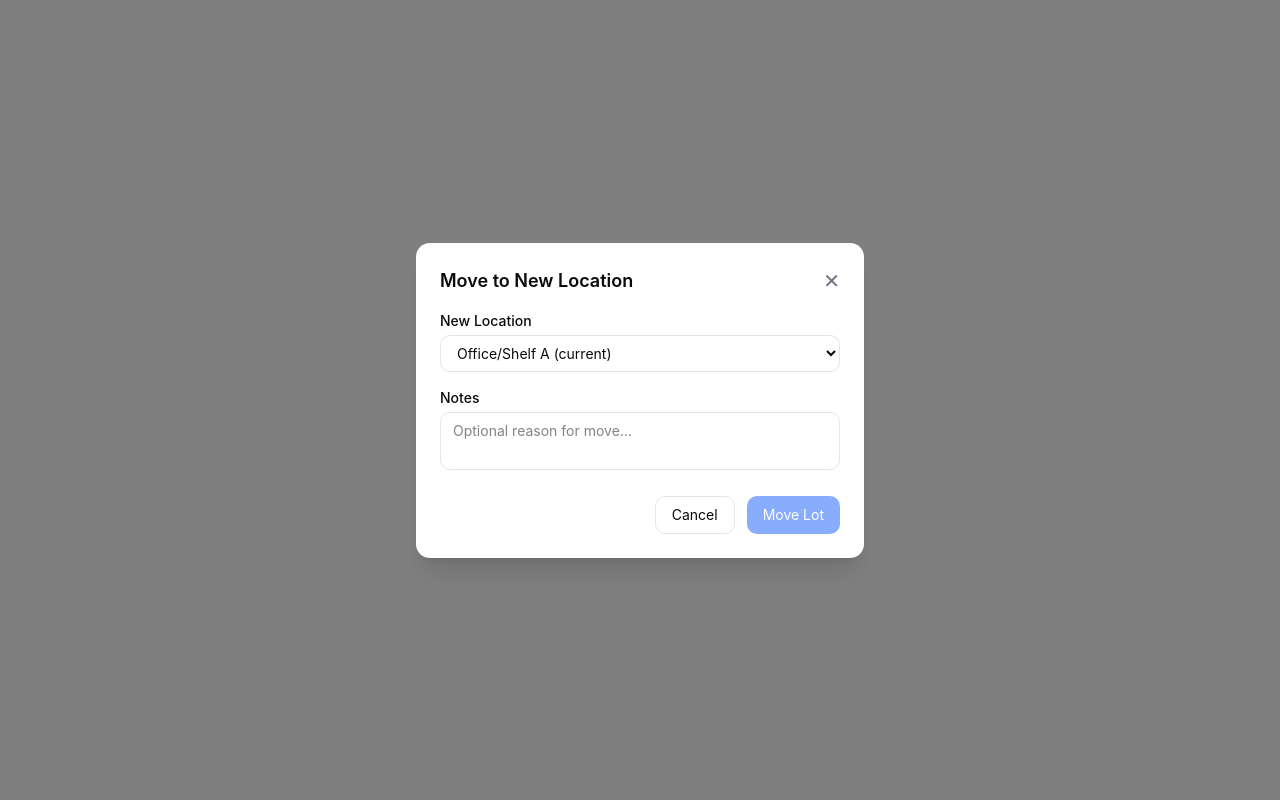
it: MoveModal › submit failure › shows network error when fetch throws
Select "Office/Shelf A/Drawer 1" in the dropdown. click: (640, 353)
box: top-left (440, 334), bottom-right (840, 372)
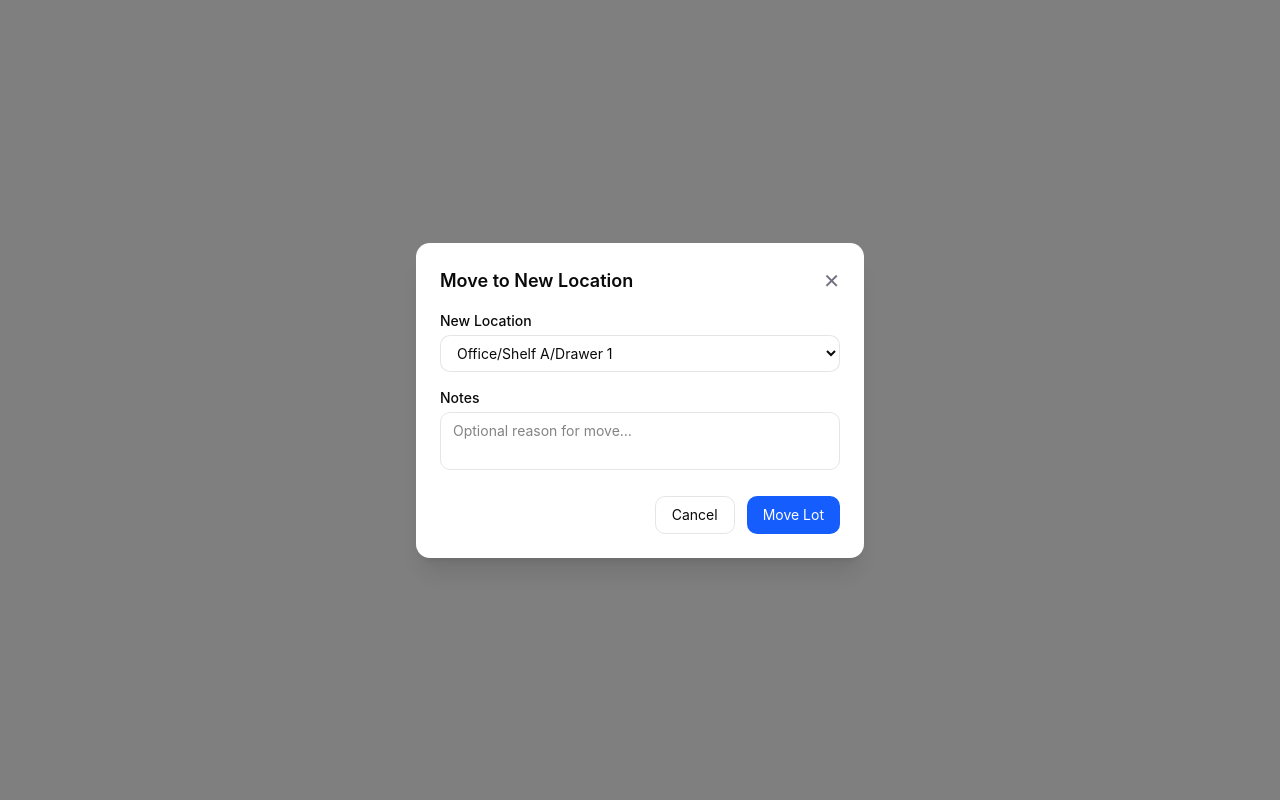
Click the button "Move Lot". click: (793, 514)
box: top-left (747, 496), bottom-right (840, 534)
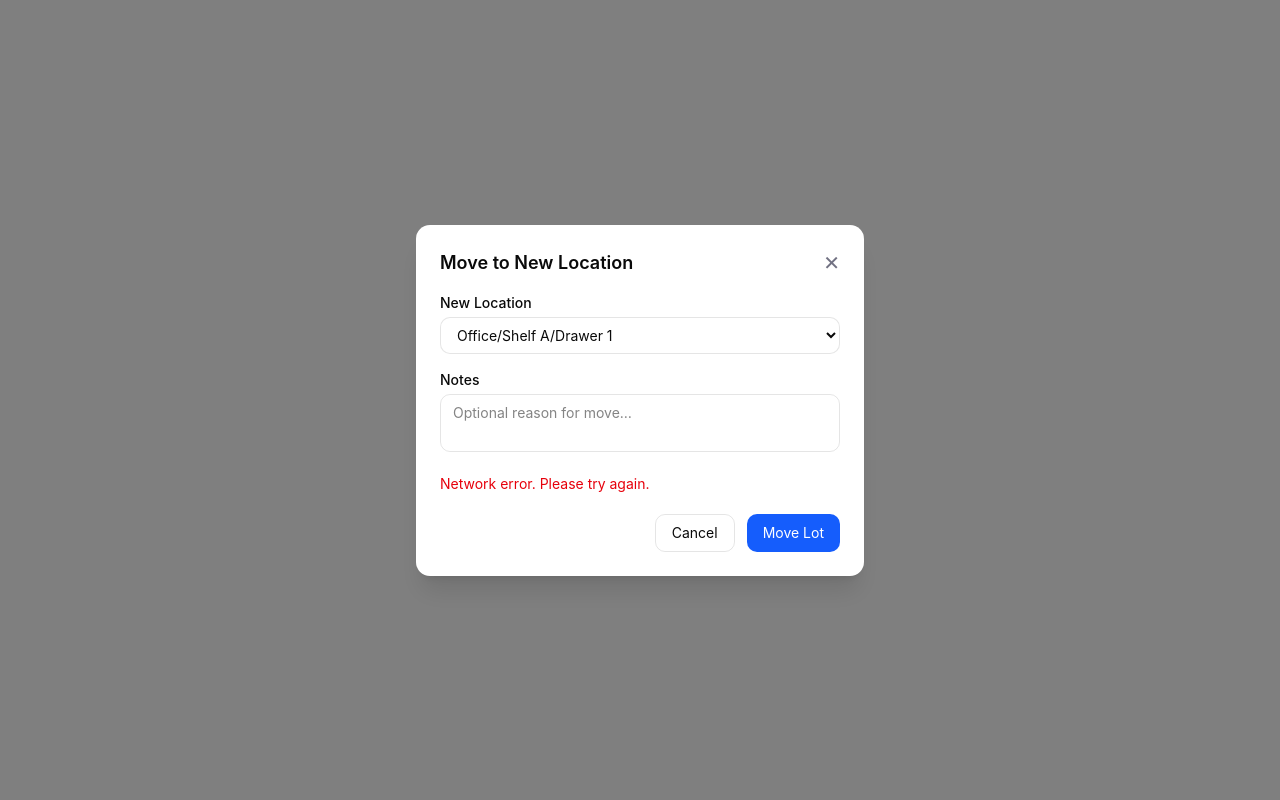
Expected: the text "Network error. Please try again." is shown, top-left (440, 474), bottom-right (650, 492)
